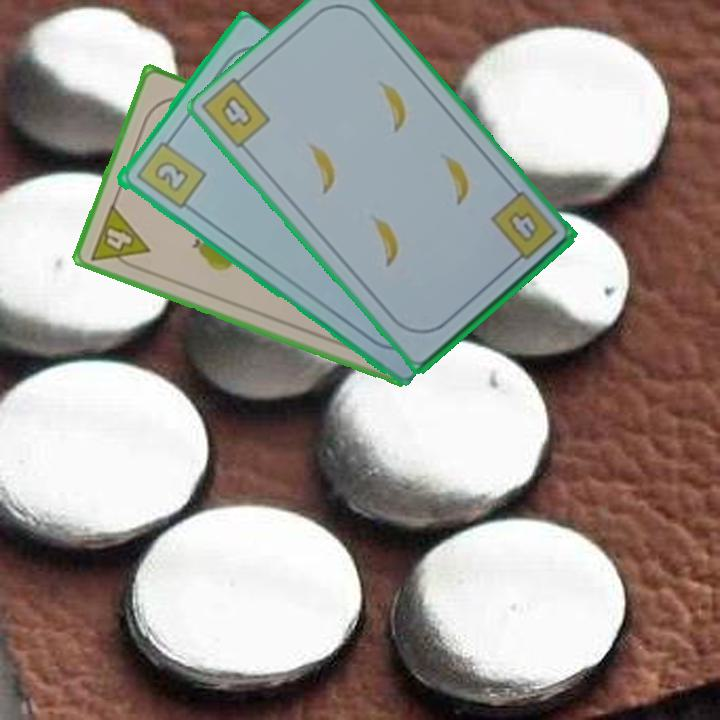2b: (131, 132, 208, 212)
4b: (487, 188, 561, 269), (216, 91, 255, 130)
4p: (86, 200, 153, 275)
